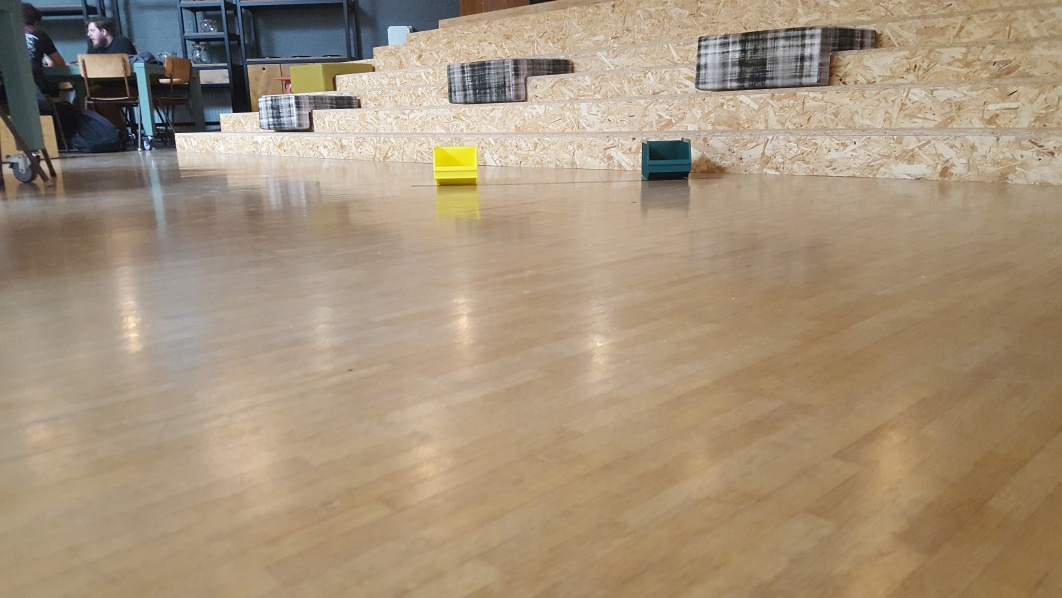tray: (637, 137, 695, 179), (432, 144, 481, 187)
